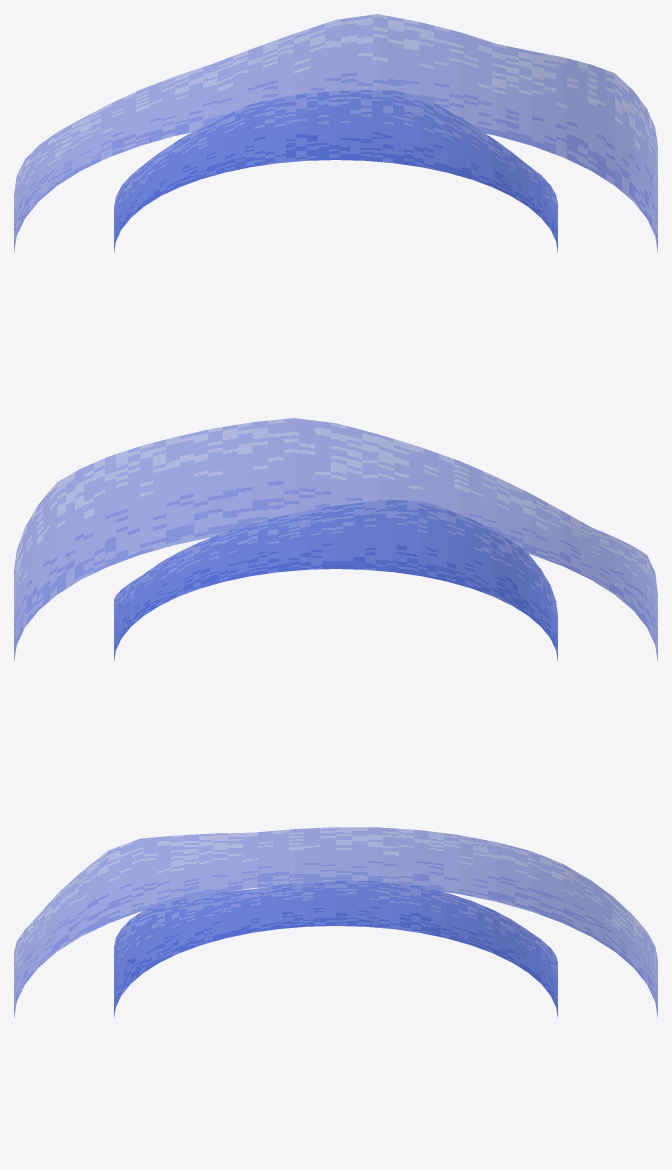
File: terrain.vista.glb
The picture shows the model from 3 angles, top to bottom: view 1: azimuth 30°, elevation 25°; view 2: azimuth 150°, elevation 25°; view 3: azimuth 270°, elevation 25°; orthographic projection.
Visible parts, largest first — view 1: kit_shell_vista_1, kit_shell_vista_0; view 2: kit_shell_vista_1, kit_shell_vista_0; view 3: kit_shell_vista_1, kit_shell_vista_0.
Part boxes in pixels (x1,y1,x2,y2): kit_shell_vista_1: (14, 14, 657, 252); kit_shell_vista_0: (114, 90, 557, 251); kit_shell_vista_1: (14, 418, 657, 661); kit_shell_vista_0: (114, 500, 557, 660); kit_shell_vista_1: (14, 827, 657, 1018); kit_shell_vista_0: (114, 881, 557, 1017).
Bounding box in the file's own units: 174 × 33.57 × 174.
Materials: 2 (2 with a texture image).
